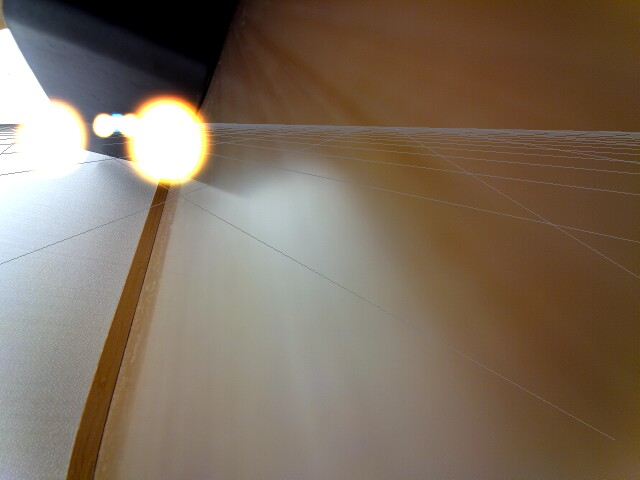firebig: (133, 77, 221, 192)
